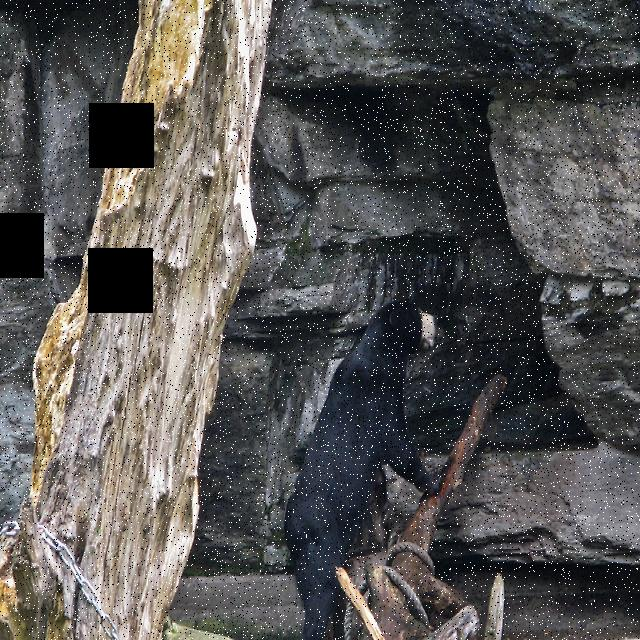Bear: (288, 280, 441, 640)
